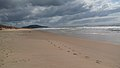human_foot_print: (50, 41, 101, 63), (48, 40, 89, 58), (48, 40, 80, 55), (48, 40, 77, 54), (0, 47, 13, 66), (48, 40, 62, 49), (0, 59, 4, 66), (96, 60, 101, 63), (85, 56, 90, 59), (73, 53, 78, 55), (67, 50, 71, 52)
